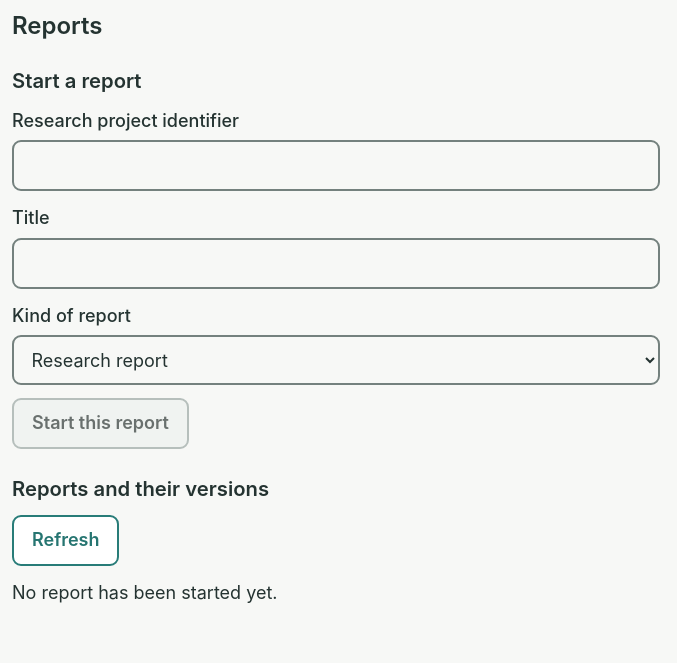
Test: writing a report › a new report has no version, and the screen says so rather than implying one
In the field labelled "Research project identifier": (336, 166) [12, 140, 660, 191], type "rp_1"
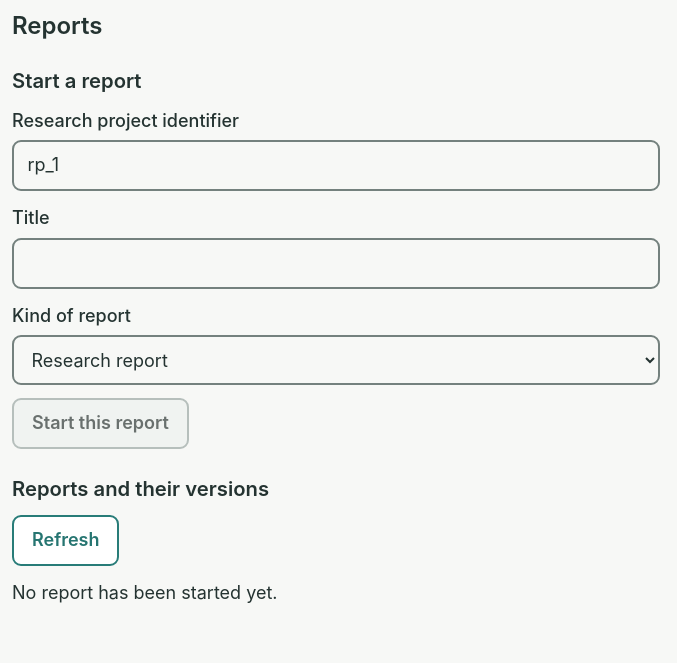
In the field labelled "Title": (336, 263) [12, 238, 660, 288], type "Pilot outcomes"
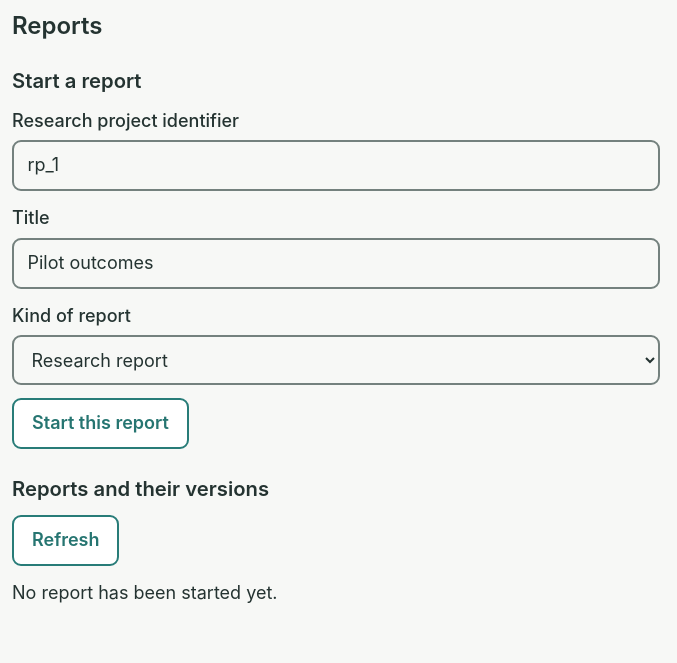
Click the button "Start this report": (100, 424) [12, 398, 189, 449]
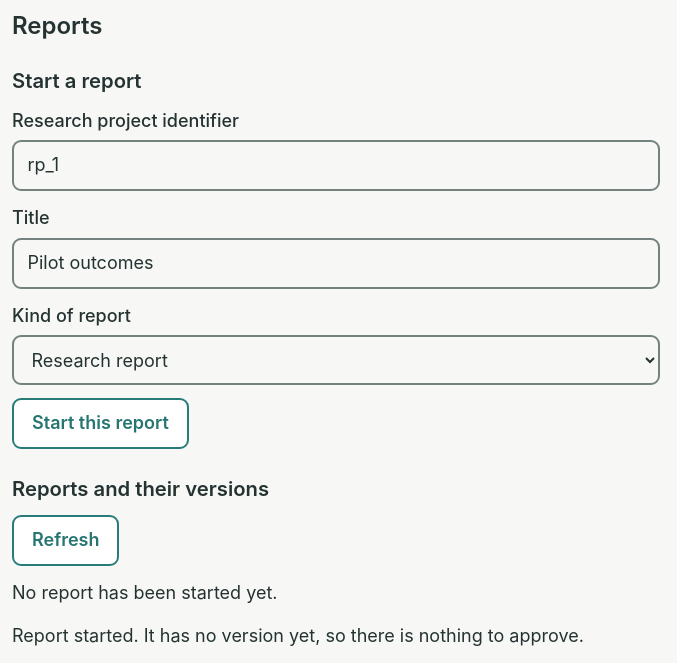
Expected: the message shows "nothing to approve", [12, 624, 584, 646]
